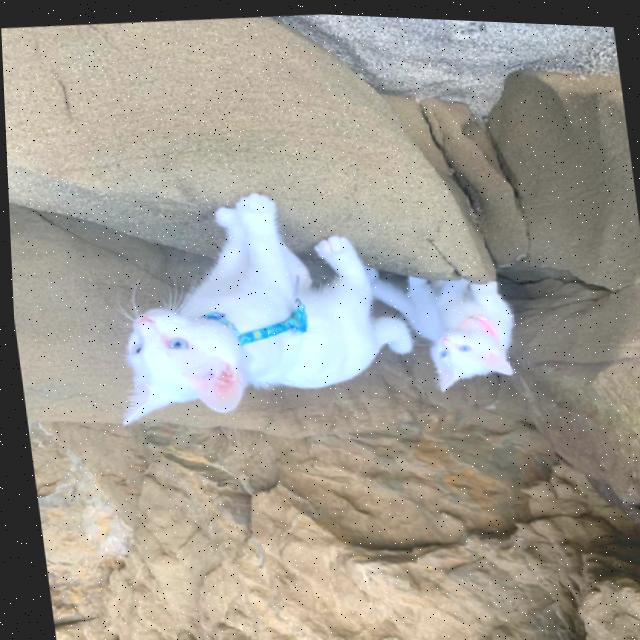Khao Manee: (84, 167, 422, 440), (360, 249, 524, 399)
